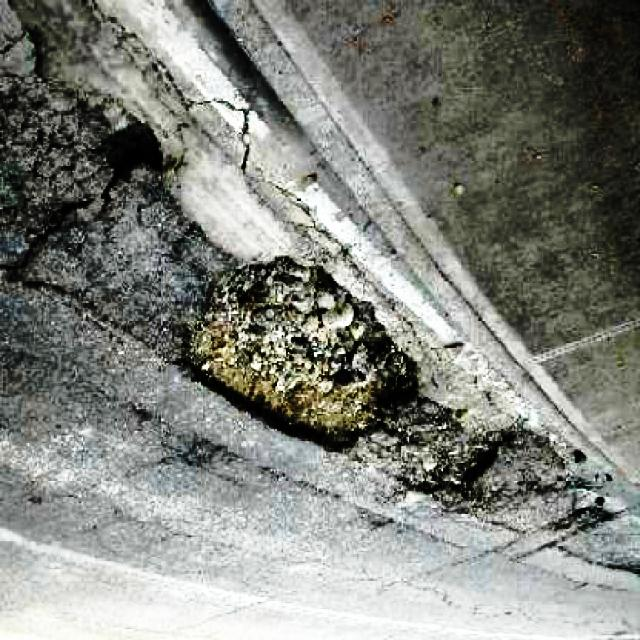pothole: (178, 254, 420, 455), (0, 119, 166, 278), (396, 420, 522, 497), (554, 503, 621, 532)
